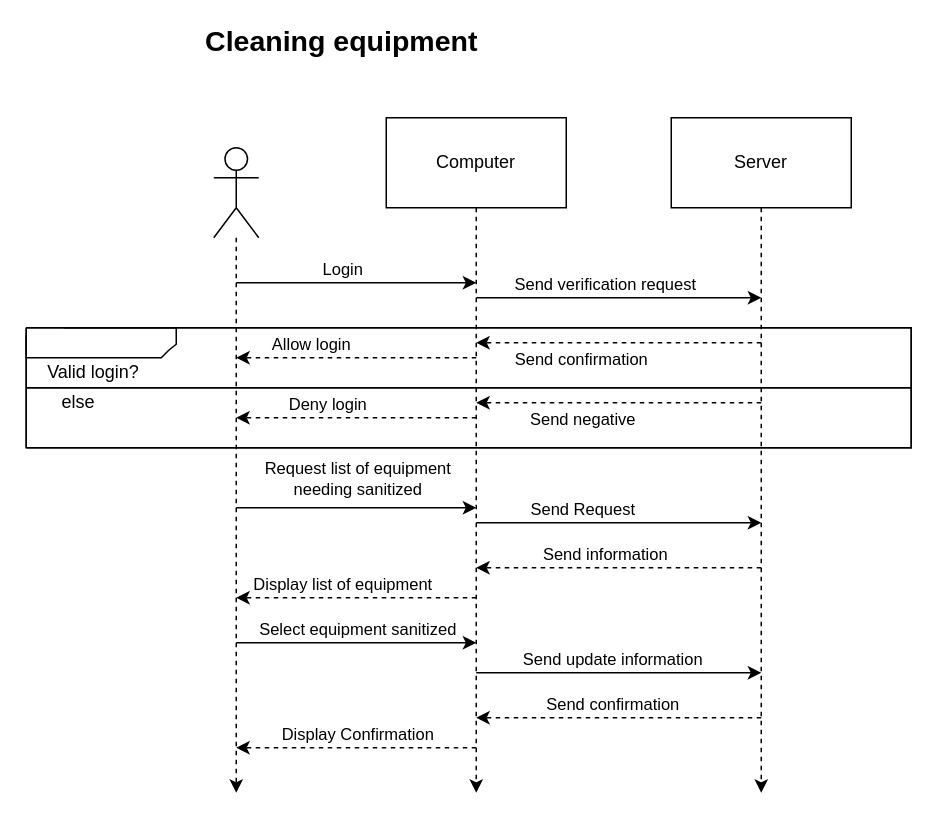
The diagram is 938 pixels wide and 831 high, and some of its shapes have lost their labels. The shapes that lost their labels are listed below. From the top down, each one's centre as x and y in pixels, then its label:
At (x=235, y=192): "Worker".
At (x=100, y=342): "Alternate".
